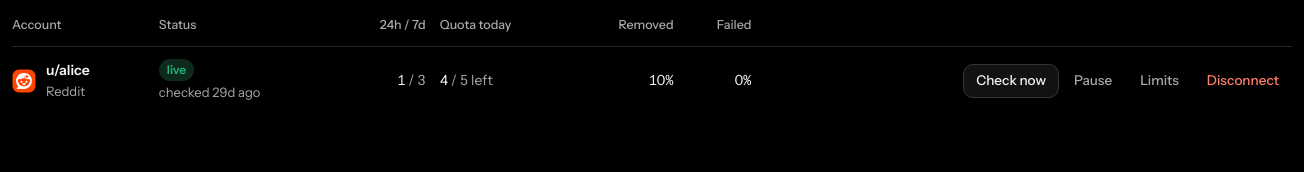
Test case: AccountsTable › shows why an action failed
Click the button "Pause" at (1093, 80), box [1061, 64, 1125, 98]
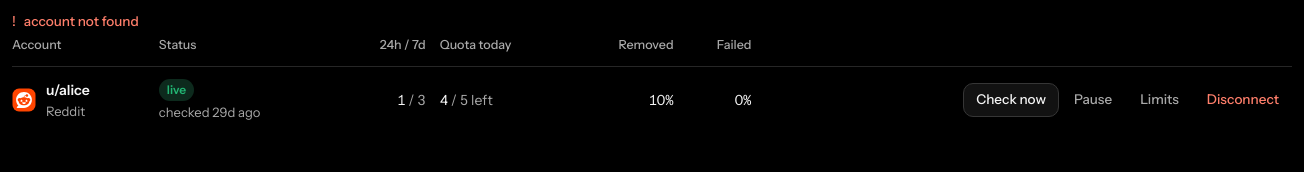
Now the text "account not found" is shown, box [24, 13, 139, 29]
